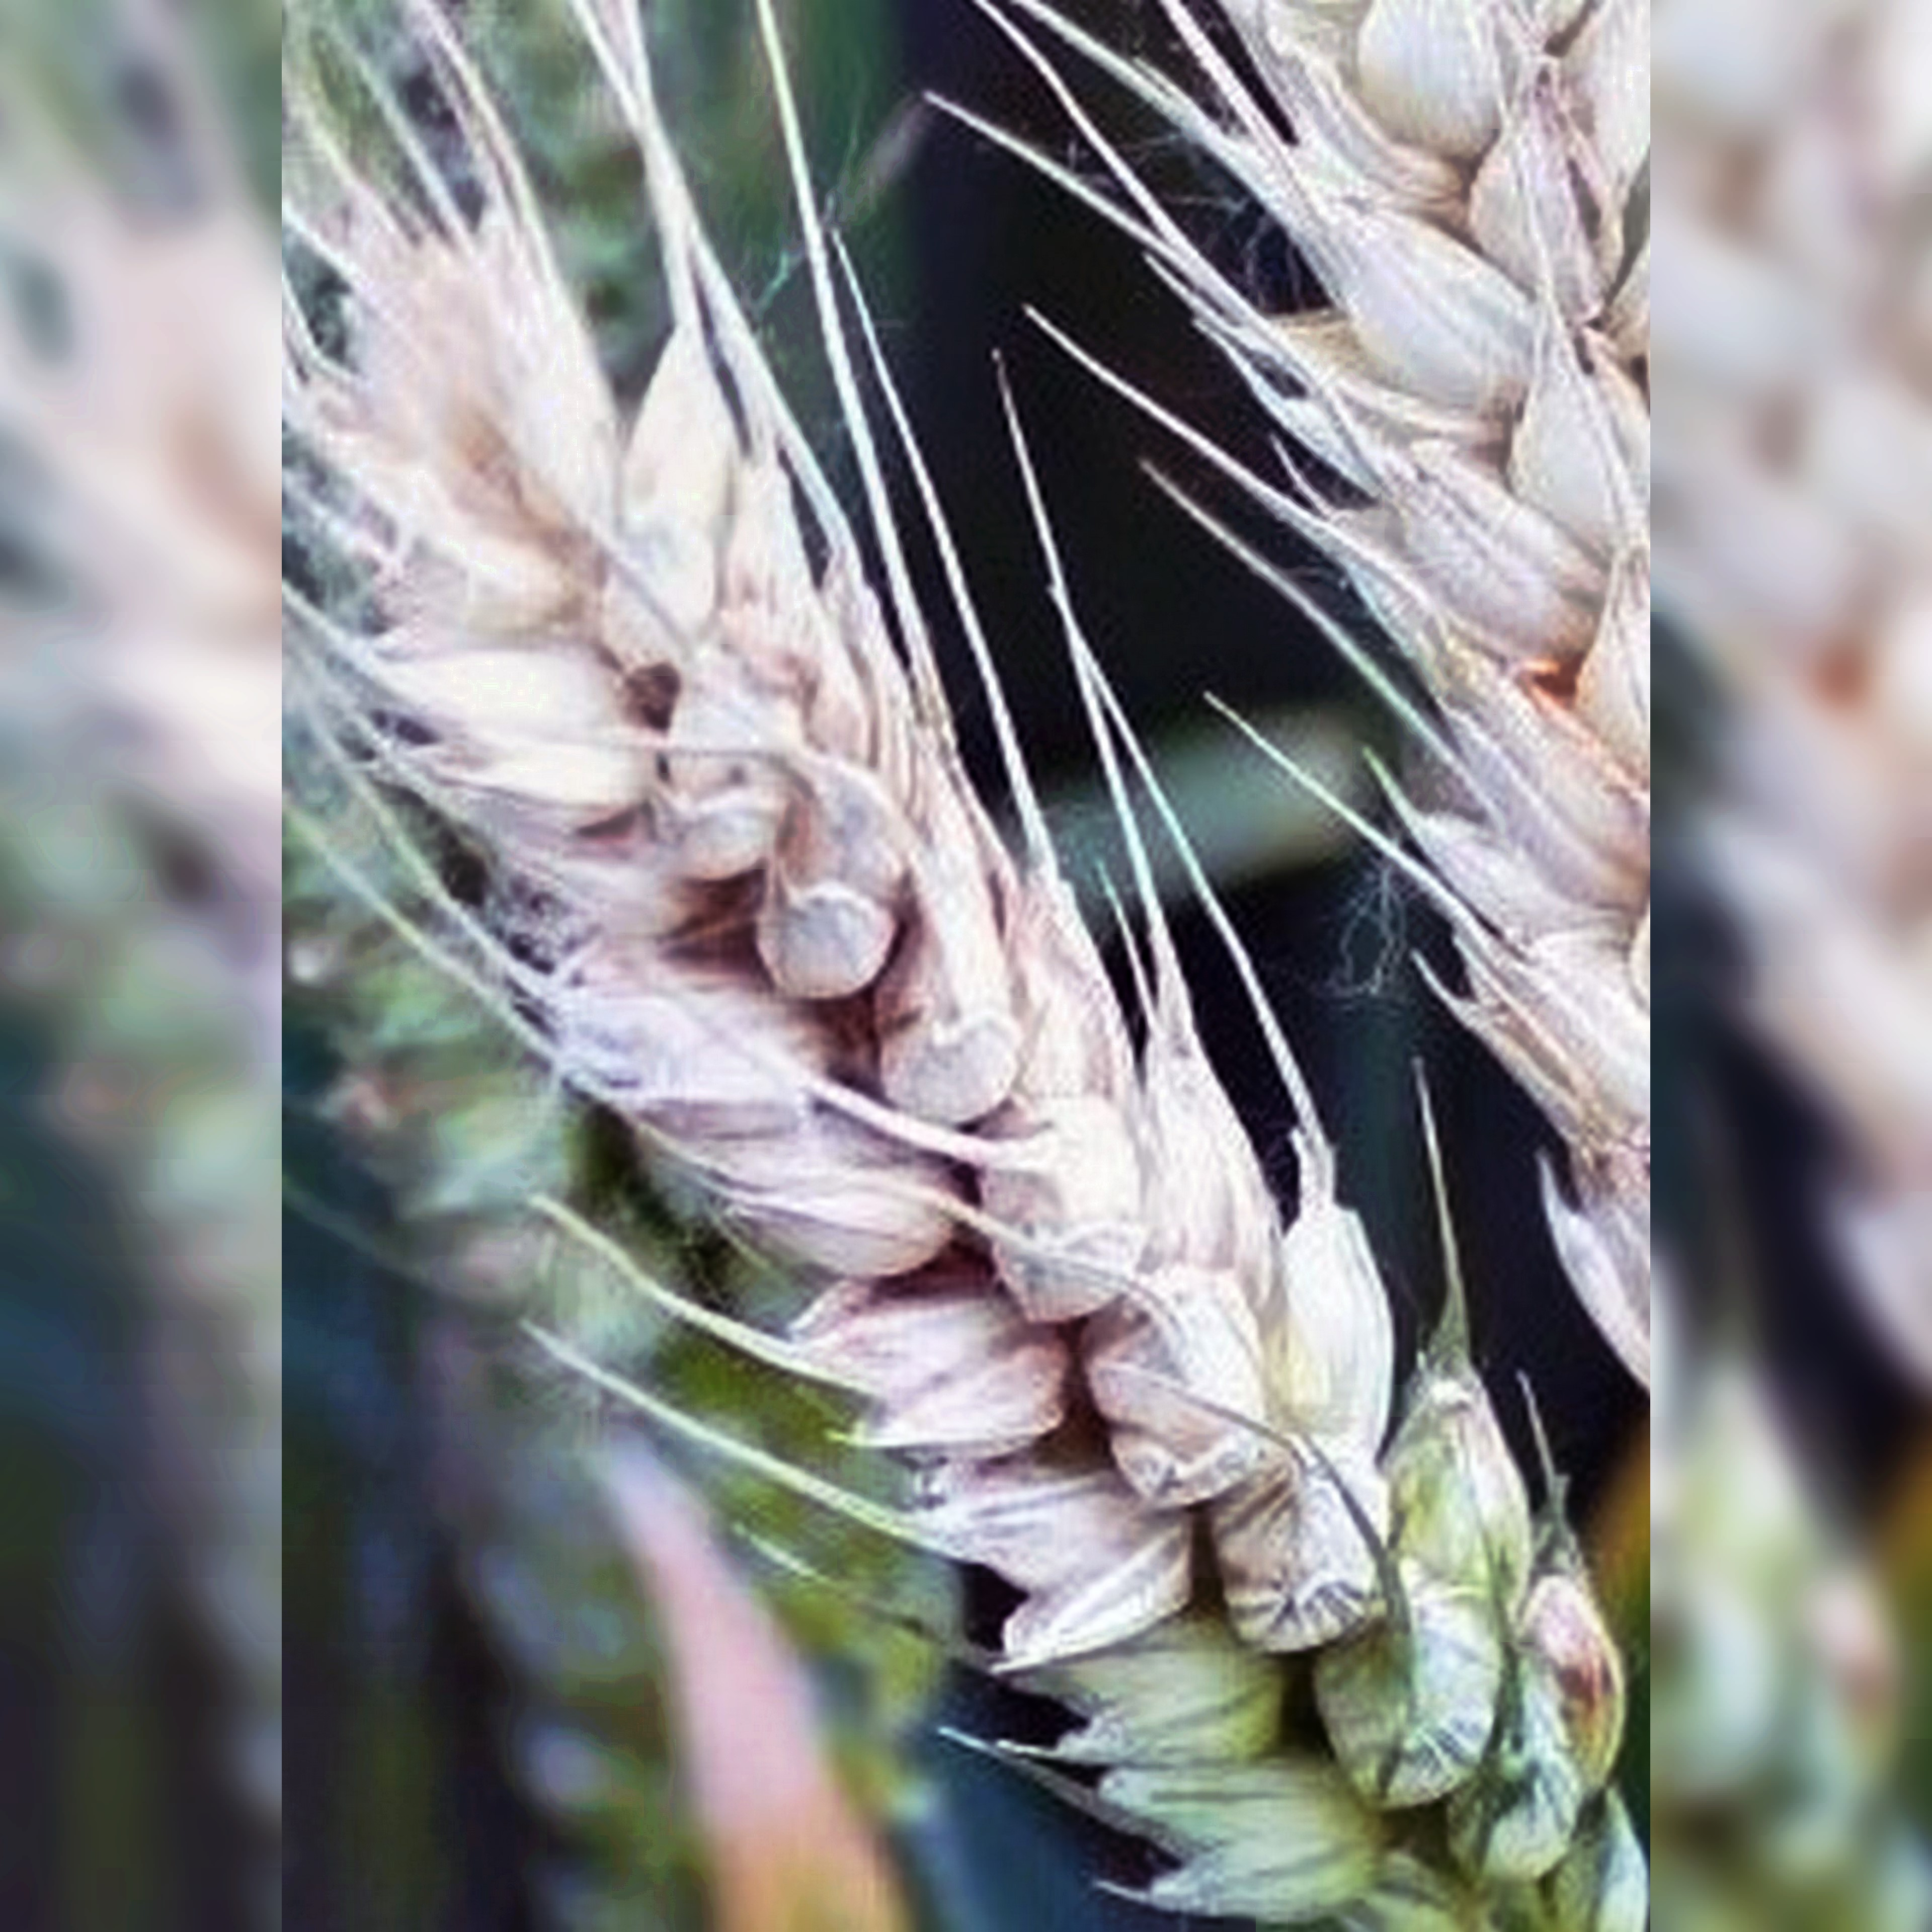Wheat scab: (326, 253, 1539, 1769)
